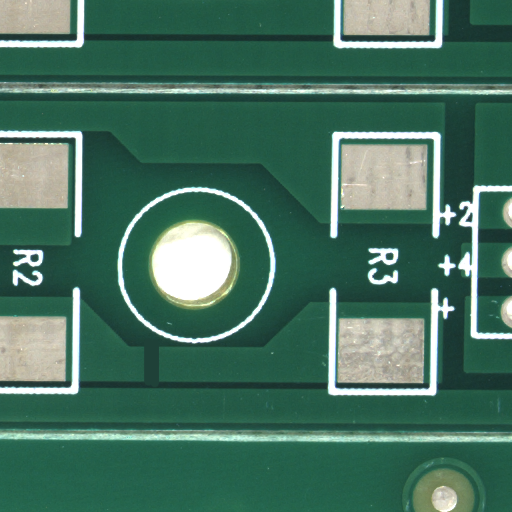Open_circuit: (152, 365, 173, 411)
